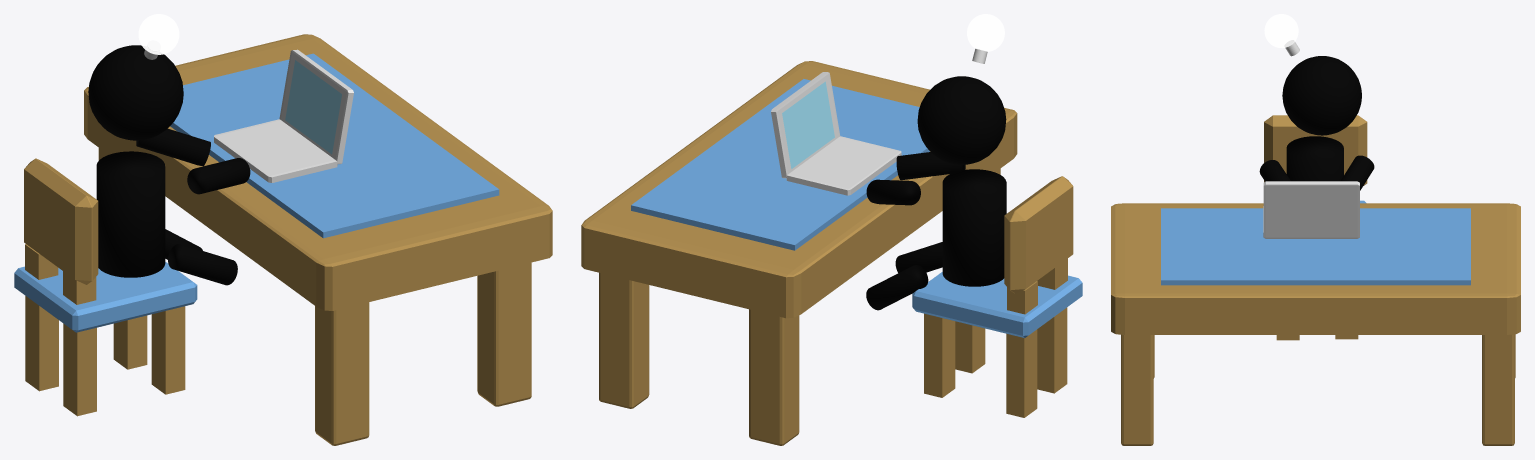
The model's file is takuzo.glb.
The picture shows the model from 3 angles, left to right: view 1: azimuth 30°, elevation 25°; view 2: azimuth 150°, elevation 25°; view 3: azimuth 270°, elevation 25°; orthographic projection. The views are drawn at different scales.
Visible parts, largest first — view 1: Cube, Cylinder.004, Cube.002, Cube.003, Sphere, Cube.006, Cube.005, Cube.014, Cube.013, Cube.007, Cube.010, Cube.009 (+7 smaller); view 2: Cube, Cylinder.004, Cube.004, Cube.001, Sphere, Cube.006, Cube.005, Cube.014, Cube.013, Cube.009, Cube.008, Cube.007 (+8 smaller); view 3: Cube, Cube.014, Sphere, Cube.001, Cube.003, Cube.006, Cylinder.004, Sphere.001, Cylinder.001, Cylinder.
Part boxes in pixels (x1,y1,x2,y2): Cube: [84, 34, 552, 310]; Cylinder.004: [96, 151, 165, 277]; Cube.002: [315, 302, 369, 445]; Cube.003: [477, 262, 531, 406]; Sphere: [88, 45, 183, 140]; Cube.006: [24, 158, 98, 284]; Cube.005: [14, 262, 197, 332]; Cube.014: [279, 49, 353, 164]; Cube.013: [214, 119, 337, 182]; Cube.007: [63, 323, 96, 416]; Cube.010: [151, 306, 185, 394]; Cube.009: [25, 296, 58, 391]; Cube: [581, 61, 1017, 318]; Cylinder.004: [942, 169, 1006, 286]; Cube.004: [749, 309, 799, 445]; Cube.001: [599, 272, 649, 408]; Sphere: [917, 76, 1006, 164]; Cube.006: [1004, 176, 1073, 293]; Cube.005: [912, 272, 1082, 337]; Cube.014: [771, 72, 840, 178]; Cube.013: [786, 136, 901, 195]; Cube.009: [1006, 329, 1037, 417]; Cube.008: [924, 313, 955, 397]; Cube.007: [1037, 307, 1067, 393]; Cube: [1111, 203, 1520, 334]; Cube.014: [1263, 181, 1359, 238]; Sphere: [1282, 56, 1361, 135]; Cube.001: [1482, 334, 1514, 445]; Cube.003: [1121, 334, 1153, 445]; Cube.006: [1264, 115, 1367, 185]; Cylinder.004: [1286, 136, 1343, 181]; Sphere.001: [1264, 14, 1298, 48]; Cylinder.001: [1340, 155, 1374, 190]; Cylinder: [1259, 160, 1290, 181].
Size of the model in its own units: 3.14 by 2.92 by 3.4.
